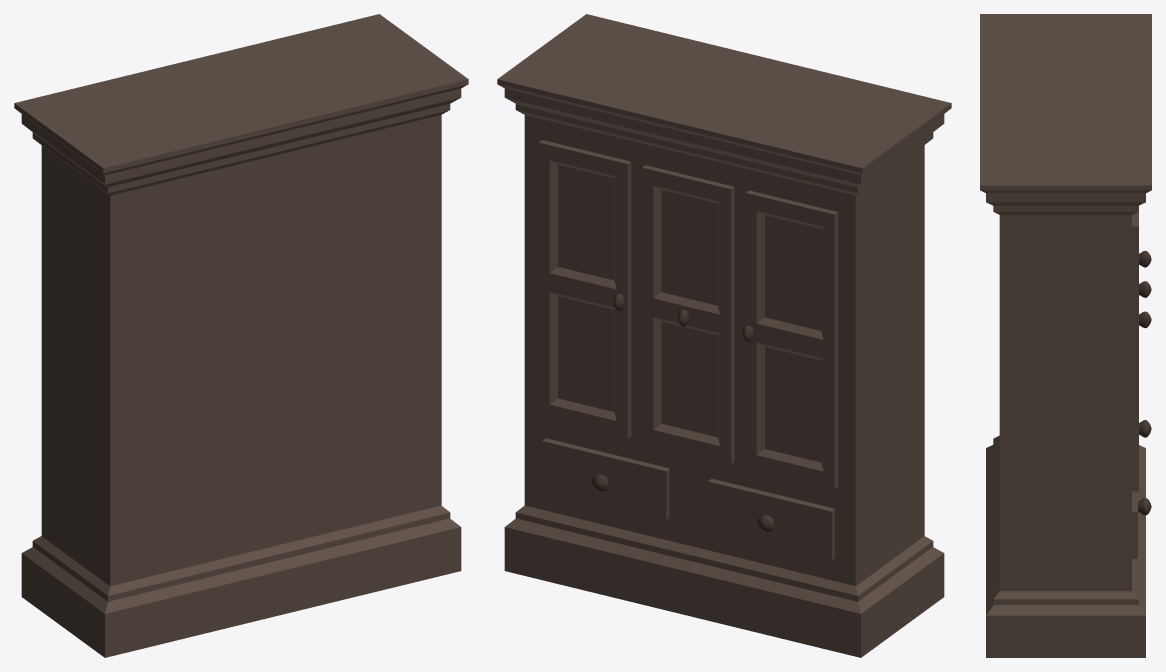
The model's file is Armoire2_6.fbx.
The picture shows the model from 3 angles, left to right: view 1: azimuth 30°, elevation 25°; view 2: azimuth 150°, elevation 25°; view 3: azimuth 270°, elevation 25°; orthographic projection. The views are drawn at different scales.
Visible parts, largest first — view 1: pCube2388, pCube2389, pCube2386, pCube2385, pCube2387, pCube2390; view 2: pCube2388, pCube2389, pCube2424, pCube2420, pCube2423, pCube2386, pCube2385, pCube2406, pCube2414, pCube2387, pCube2390; view 3: pCube2388, pCube2389, pCube2386, pCube2385, pCube2387, pCube2420, pCube2390, pCube2406.
Boxes of the visible parts, x1=… form: pCube2388: x1=41, y1=115, x2=441, y2=586; pCube2389: x1=14, y1=14, x2=468, y2=174; pCube2386: x1=21, y1=518, x2=461, y2=657; pCube2385: x1=32, y1=505, x2=450, y2=601; pCube2387: x1=21, y1=88, x2=461, y2=187; pCube2390: x1=32, y1=104, x2=450, y2=195; pCube2388: x1=524, y1=115, x2=924, y2=586; pCube2389: x1=497, y1=14, x2=951, y2=174; pCube2424: x1=745, y1=190, x2=838, y2=489; pCube2420: x1=538, y1=140, x2=631, y2=438; pCube2423: x1=642, y1=165, x2=734, y2=463; pCube2386: x1=504, y1=518, x2=944, y2=657; pCube2385: x1=515, y1=505, x2=933, y2=601; pCube2406: x1=542, y1=438, x2=669, y2=519; pCube2414: x1=708, y1=478, x2=834, y2=559; pCube2387: x1=504, y1=88, x2=944, y2=187; pCube2390: x1=515, y1=104, x2=933, y2=195; pCube2388: x1=999, y1=215, x2=1131, y2=591; pCube2389: x1=980, y1=14, x2=1151, y2=192; pCube2386: x1=986, y1=445, x2=1145, y2=657; pCube2385: x1=993, y1=435, x2=1138, y2=604; pCube2387: x1=986, y1=193, x2=1145, y2=205; pCube2420: x1=1132, y1=206, x2=1138, y2=491; pCube2390: x1=993, y1=206, x2=1138, y2=214; pCube2406: x1=1132, y1=491, x2=1137, y2=558.
Bounding box in the file's own units: 91.48 × 118 × 38.7.
